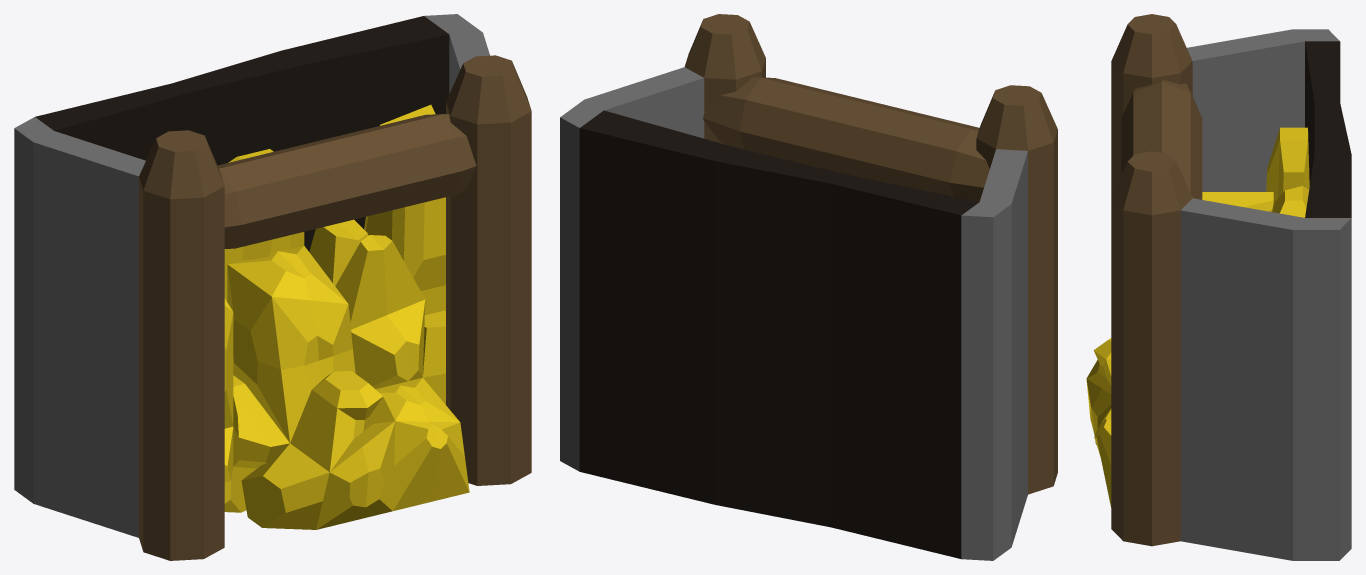
The model's file is GoldMine.fbx.
The picture shows the model from 3 angles, left to right: view 1: azimuth 30°, elevation 25°; view 2: azimuth 150°, elevation 25°; view 3: azimuth 270°, elevation 25°; orthographic projection. The views are drawn at different scales.
Visible parts, largest first — view 1: PinkMine; view 2: PinkMine; view 3: PinkMine.
Part boxes in pixels (<box>): PinkMine: <box>14,14,531,560</box>; PinkMine: <box>560,14,1057,560</box>; PinkMine: <box>1086,14,1351,560</box>.
Size of the model in its own units: 1171 by 1000 by 653.
